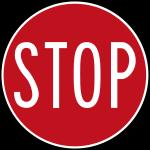Stop: (5, 11, 146, 131)
